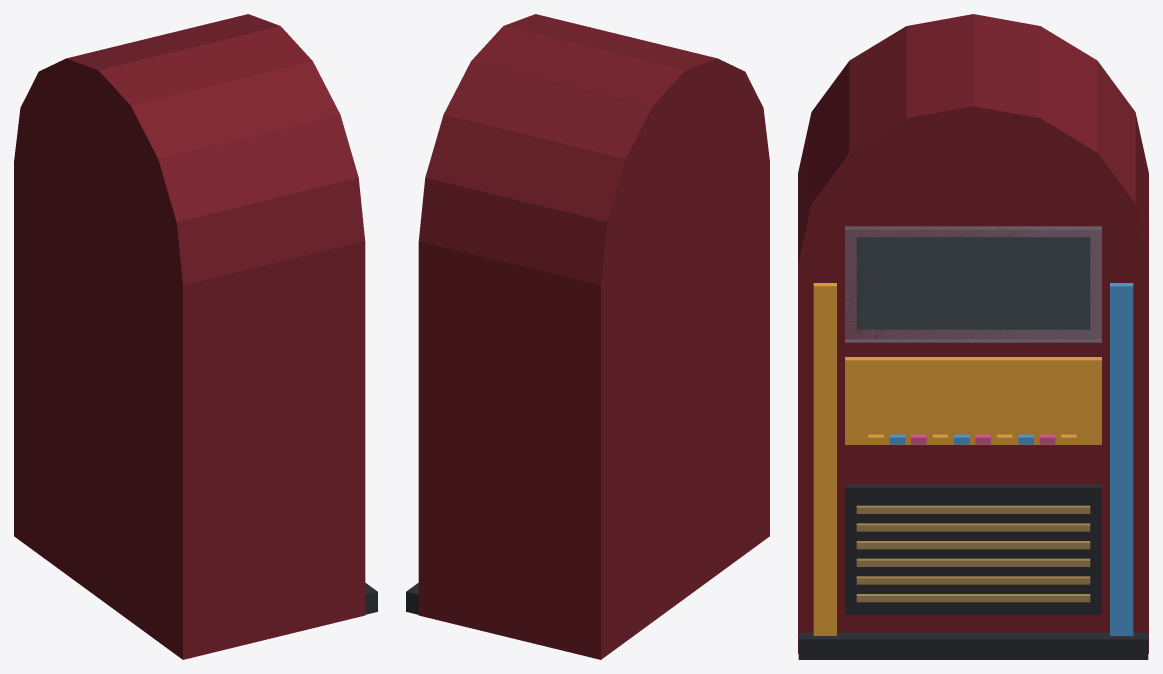
Rendered from jukebox.glb.
3 views of the same model, side by side, from view 1: azimuth 30°, elevation 25°; view 2: azimuth 150°, elevation 25°; view 3: azimuth 270°, elevation 25° (orthographic). The views are drawn at different scales.
Parts seen in each view (by area): view 1: jukebox; view 2: jukebox; view 3: jukebox.
Part boxes in pixels (box(x1,y1,x2,y2)): jukebox: box(14, 14, 377, 659); jukebox: box(406, 14, 769, 659); jukebox: box(798, 14, 1148, 659).
Size of the model in its own units: 0.6 by 1.55 by 0.9.
